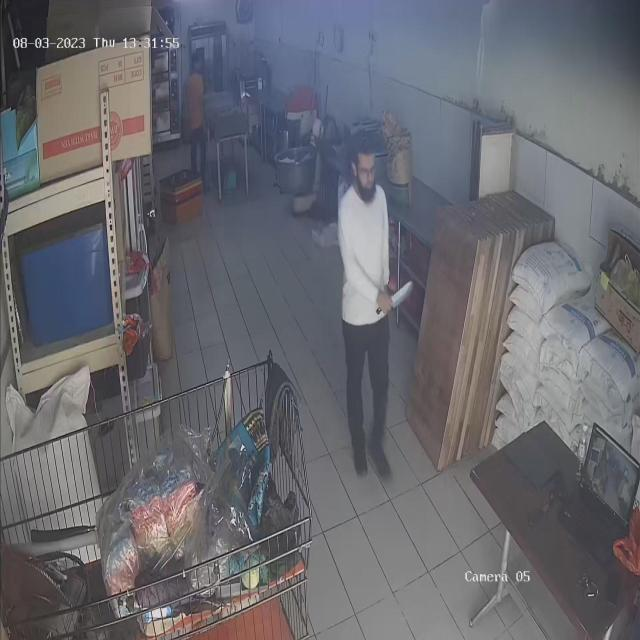Knife: (386, 280, 424, 322)
